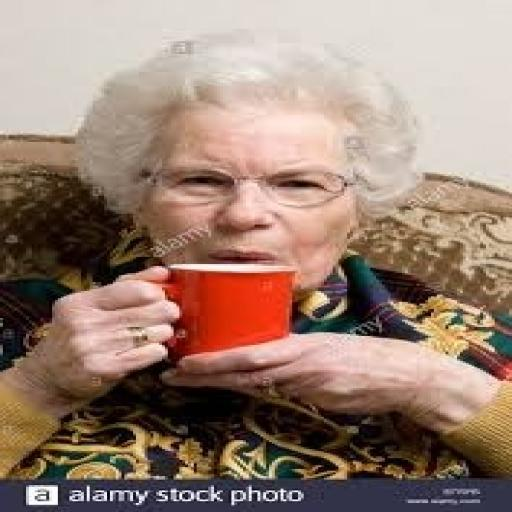drinking: (156, 260, 298, 364)
